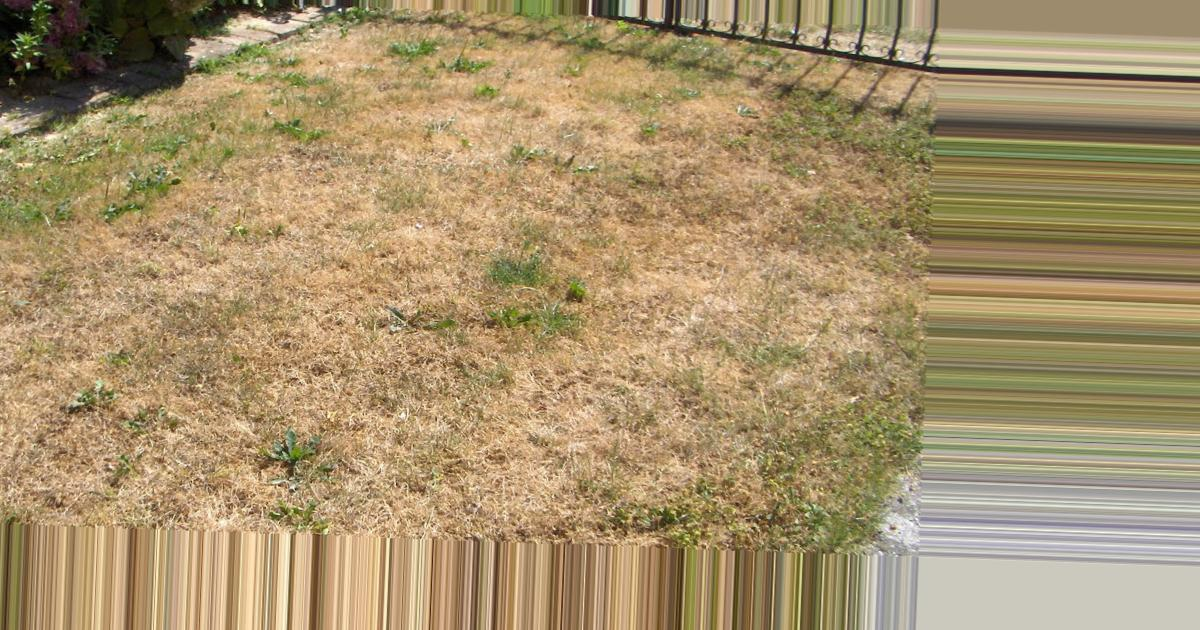patch: (312, 16, 845, 509), (24, 138, 366, 496)
